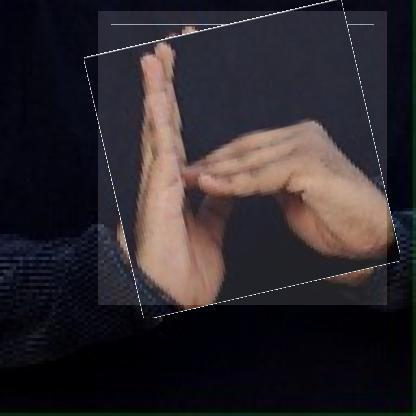Z: (98, 11, 388, 306)
